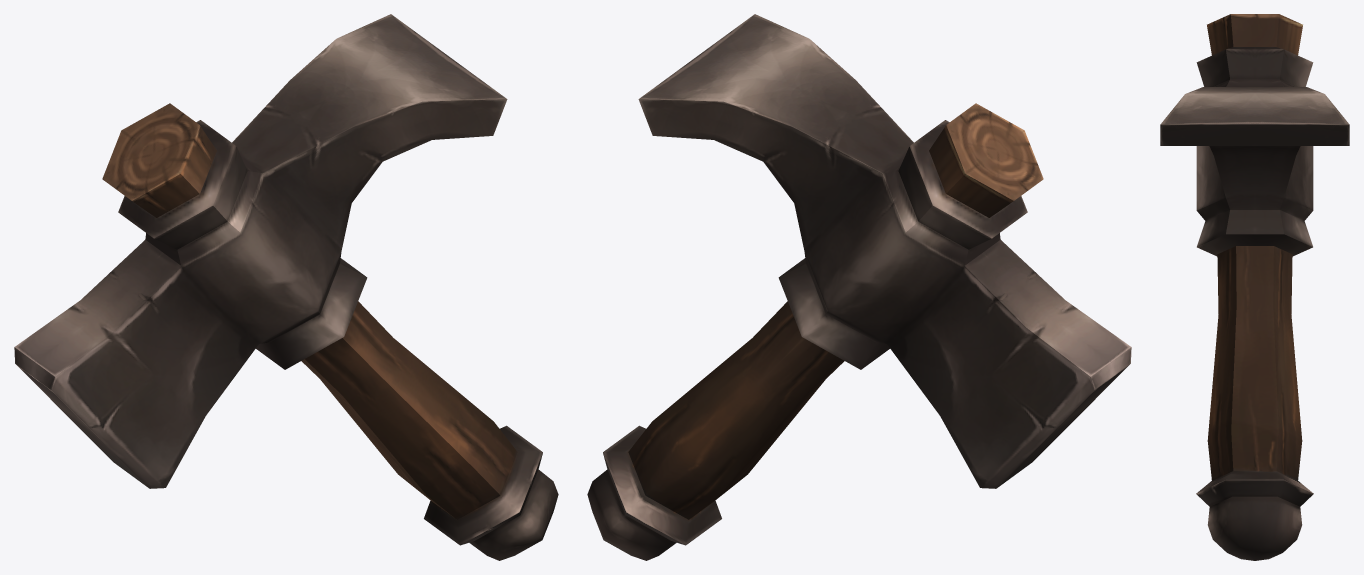
File: 58_hoe.FBX
The picture shows the model from 3 angles, left to right: view 1: azimuth 30°, elevation 25°; view 2: azimuth 150°, elevation 25°; view 3: azimuth 270°, elevation 25°; orthographic projection. The views are drawn at different scales.
Visible parts, largest first — view 1: Cylinder004; view 2: Cylinder004; view 3: Cylinder004.
Boxes of the visible parts, <box> form: Cylinder004: <box>14,14,558,560</box>; Cylinder004: <box>587,14,1131,560</box>; Cylinder004: <box>1160,14,1349,560</box>.
Size of the model in its own units: 45.98 by 44.06 by 18.09.
